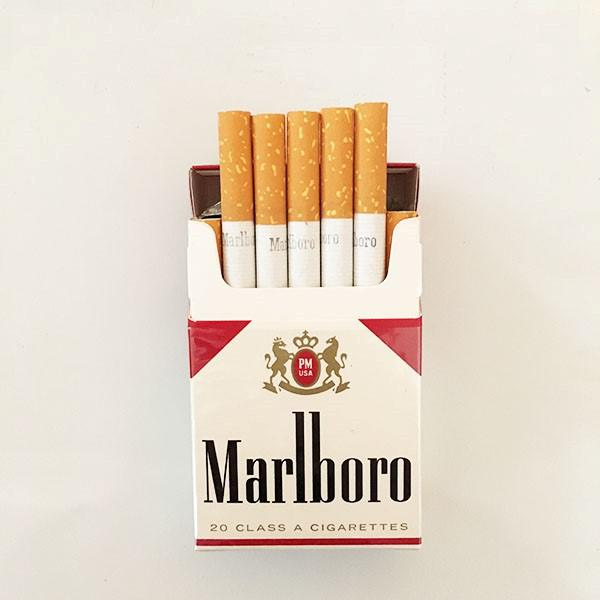marlboro_red: (193, 224, 422, 546)
